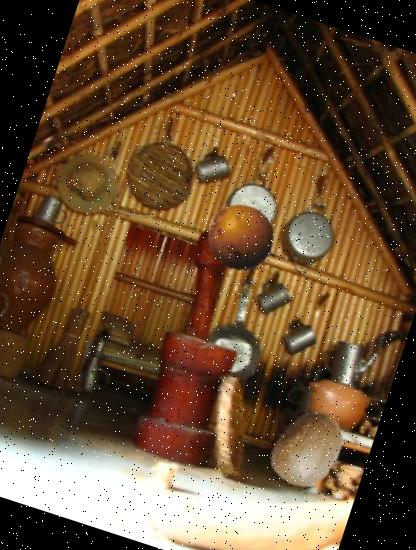Granadilla: (196, 193, 288, 285)
Kiwi: (256, 399, 358, 501)
